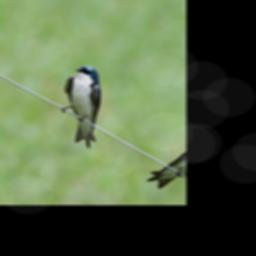Swallow: (38, 60, 133, 151)
